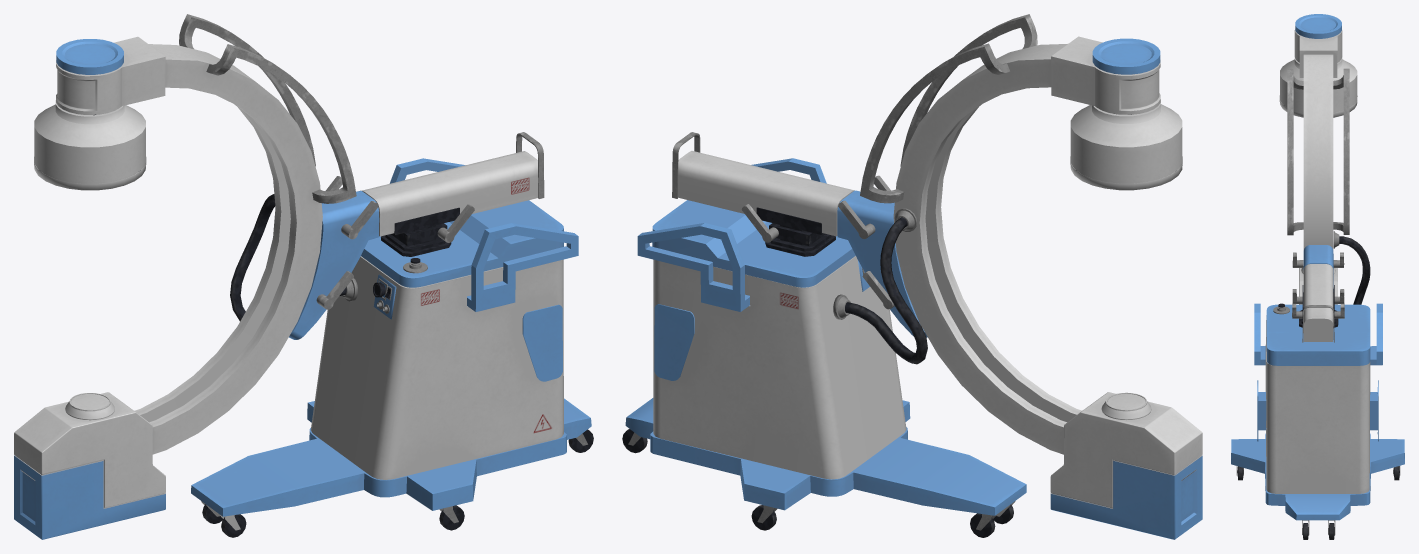
Rendered from HeartScanner.fbx.
The picture shows the model from 3 angles, left to right: view 1: azimuth 30°, elevation 25°; view 2: azimuth 150°, elevation 25°; view 3: azimuth 270°, elevation 25°; orthographic projection. The views are drawn at different scales.
Parts seen in each view (by area): view 1: HeartScanner; view 2: HeartScanner; view 3: HeartScanner.
Part boxes in pixels (x1,y1,x2,y2): HeartScanner: (14, 14, 593, 539); HeartScanner: (622, 14, 1202, 539); HeartScanner: (1231, 14, 1404, 539).
Bounding box in the file's own units: 204 × 179 × 80.07.
